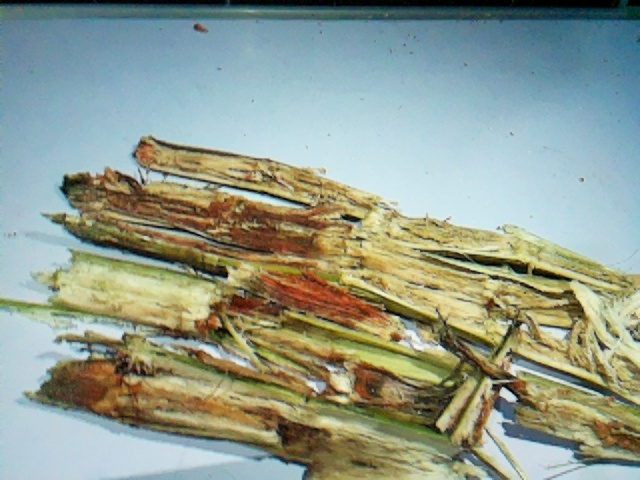Red-Rot: (43, 132, 628, 464)
